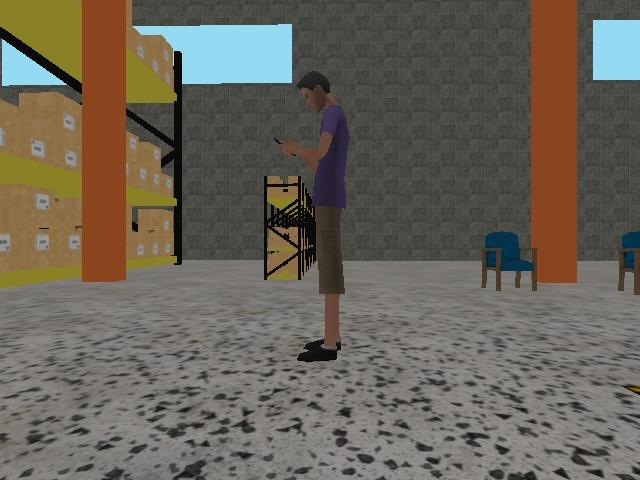chair: (479, 230, 540, 292), (616, 230, 640, 297)
person: (276, 69, 352, 365)
